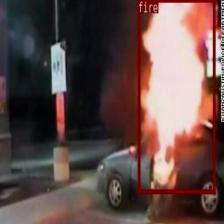fire: (137, 0, 215, 192)
